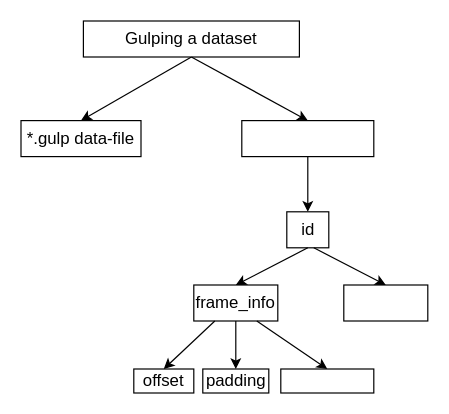
Image size: 449x414. Some labels were removed from this diagram. The centre of each missing label's shape, as x and y in pixels:
*.gmeta meta-file: (307,138)
meta_data: (385,302)
total_length: (327,380)
